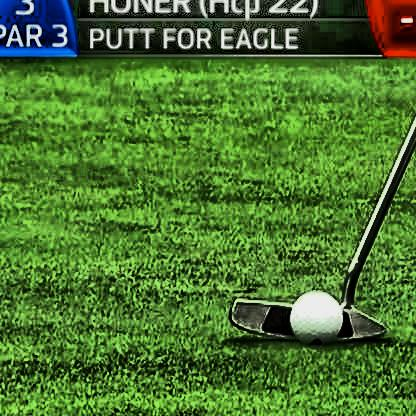golfball: (287, 286, 341, 342)
